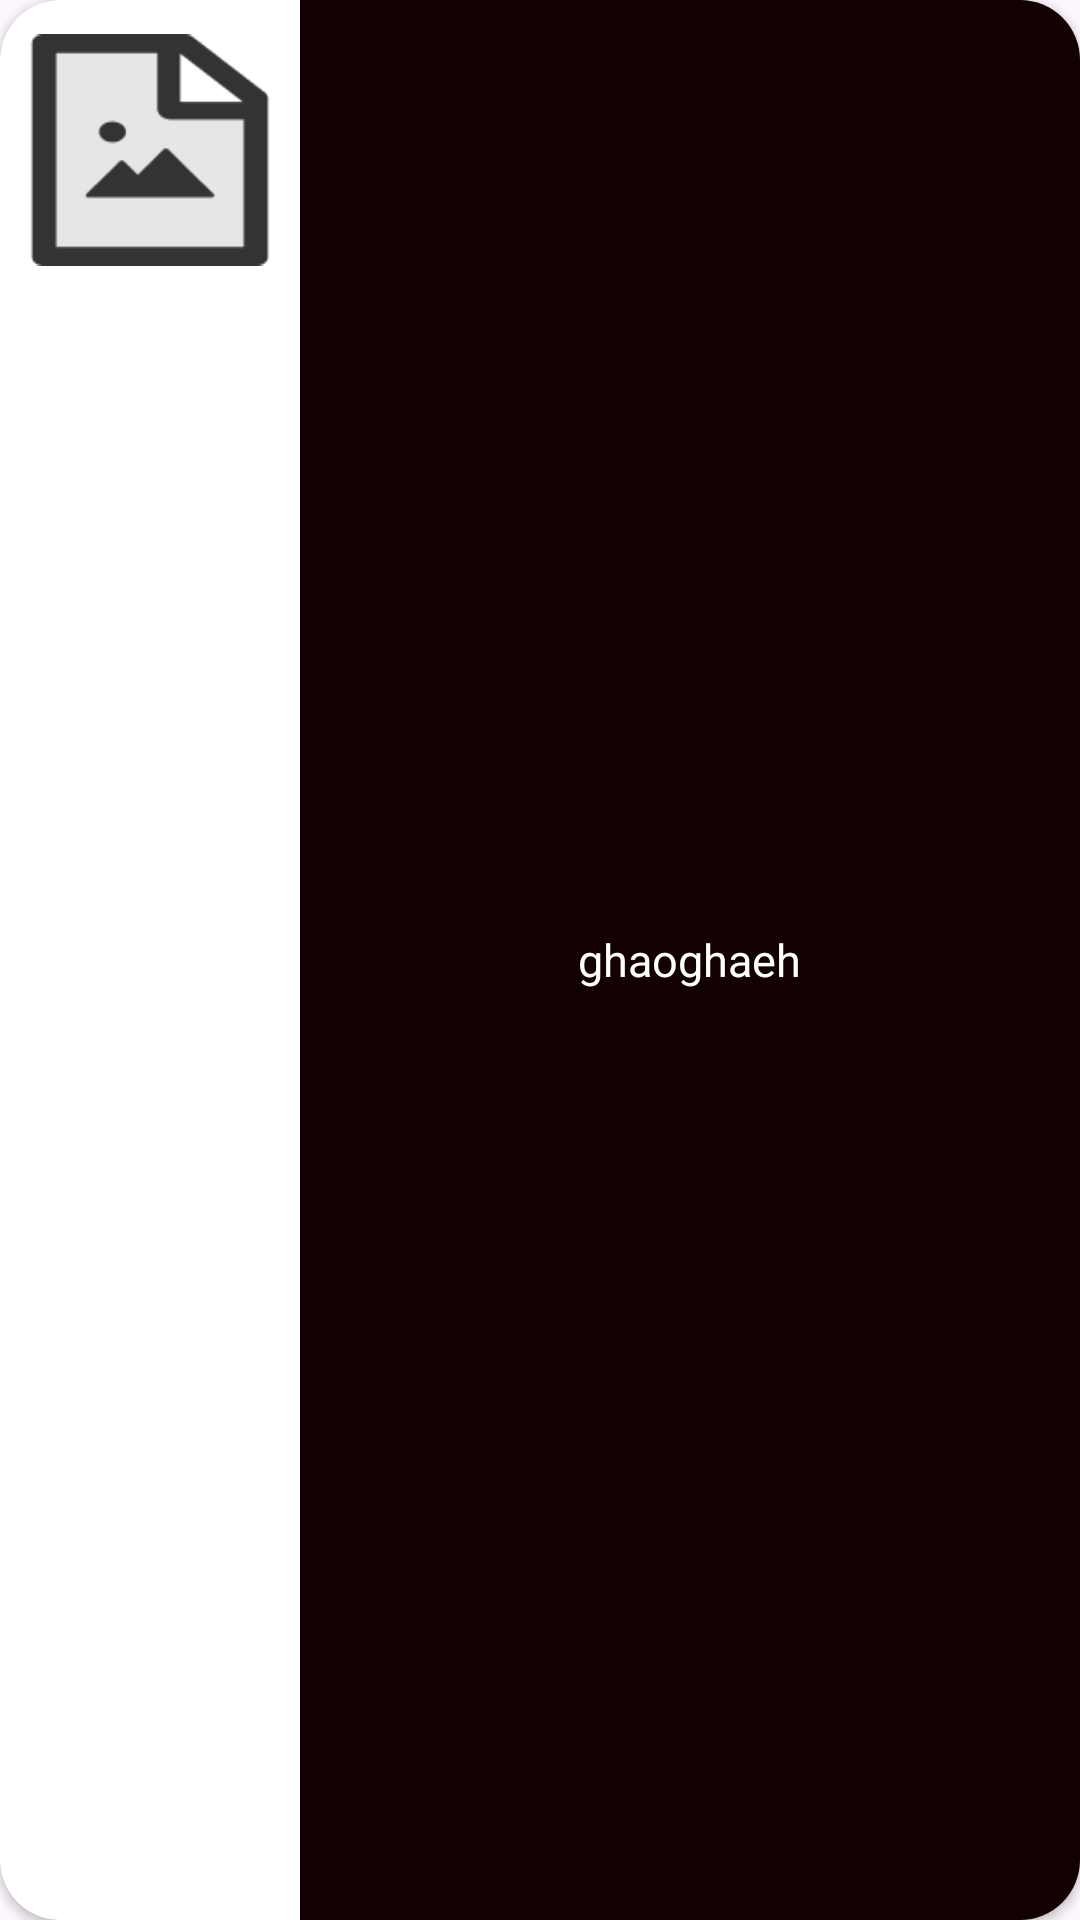

Named icons in this screenshot (1080*1920) and their centers, (x,y):
noimage: (134,133)
